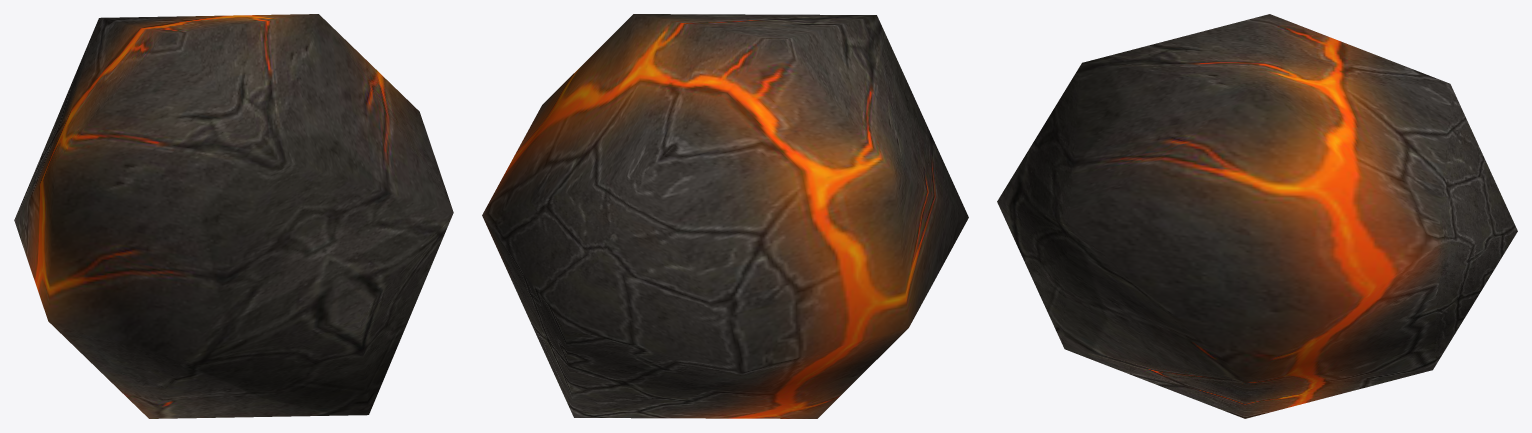
File: stone_11.obj
3 renders of one model, left to right at view 1: azimuth 30°, elevation 25°; view 2: azimuth 150°, elevation 25°; view 3: azimuth 270°, elevation 25°, orthographic. The views are drawn at different scales.
Visible parts, largest first — view 1: (null); view 2: (null); view 3: (null).
Part boxes in pixels (left/top/right/bottom): (null): left=14, top=14, right=453, bottom=418; (null): left=482, top=14, right=968, bottom=418; (null): left=997, top=14, right=1517, bottom=418.
Size of the model in its own units: 2.05 by 2.05 by 2.75.
